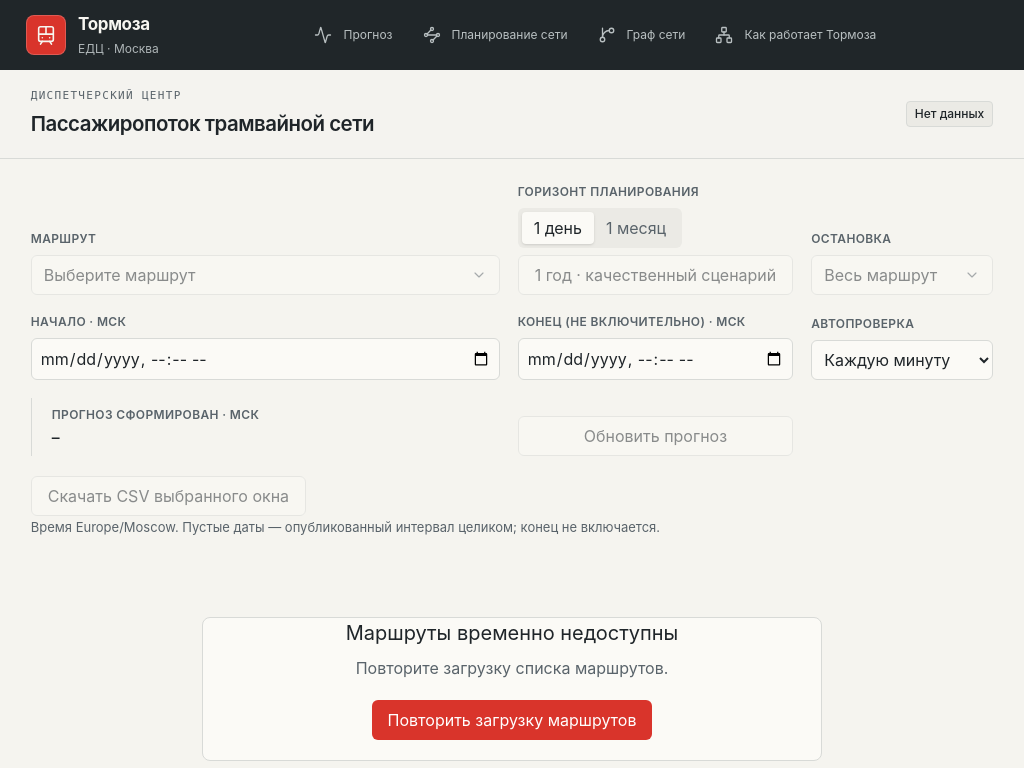
Test: shows waiting then a scoped route error without requesting forecasts
Expected: the dropdown labelled "маршрут" is disabled, x1=31 y1=255 x2=500 y2=295
Expected: the button "1 год · качественный сценарий" is disabled, x1=518 y1=255 x2=793 y2=295
Click the button "Повторить загрузку маршрутов" at [512, 720], box x1=372 y1=700 x2=652 y2=740
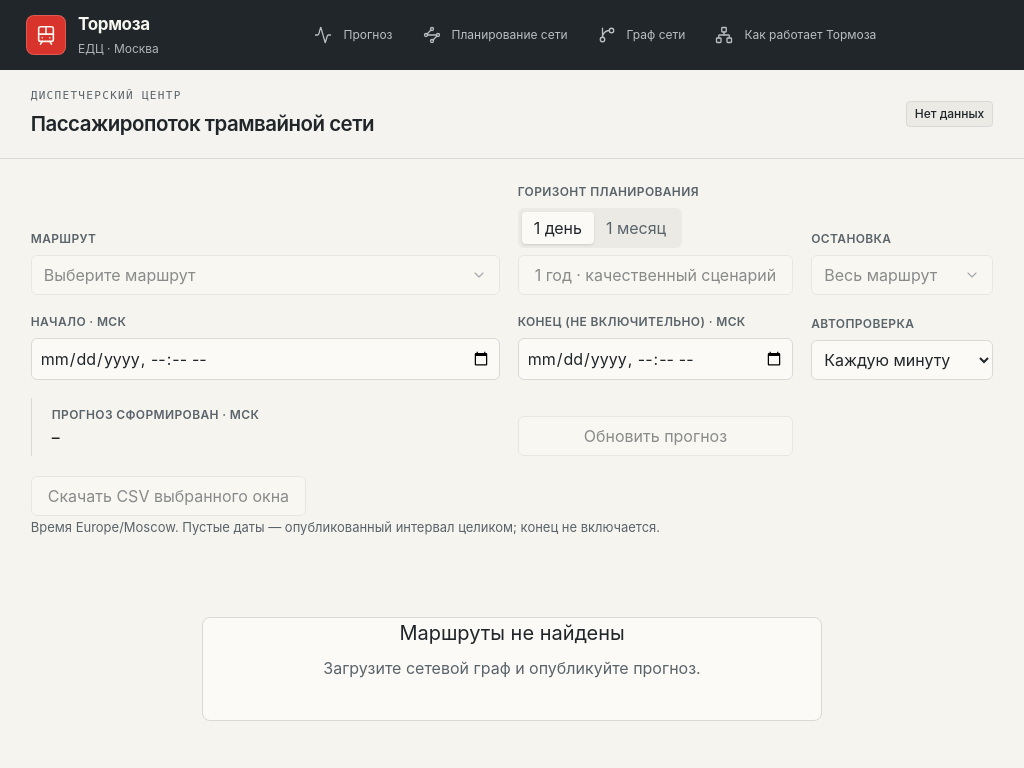
Expected: the heading "Маршруты не найдены" is shown, x1=399 y1=621 x2=625 y2=645
